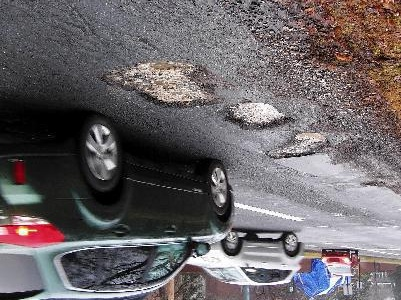pothole: (101, 56, 223, 111), (221, 99, 293, 133), (264, 130, 331, 162)
